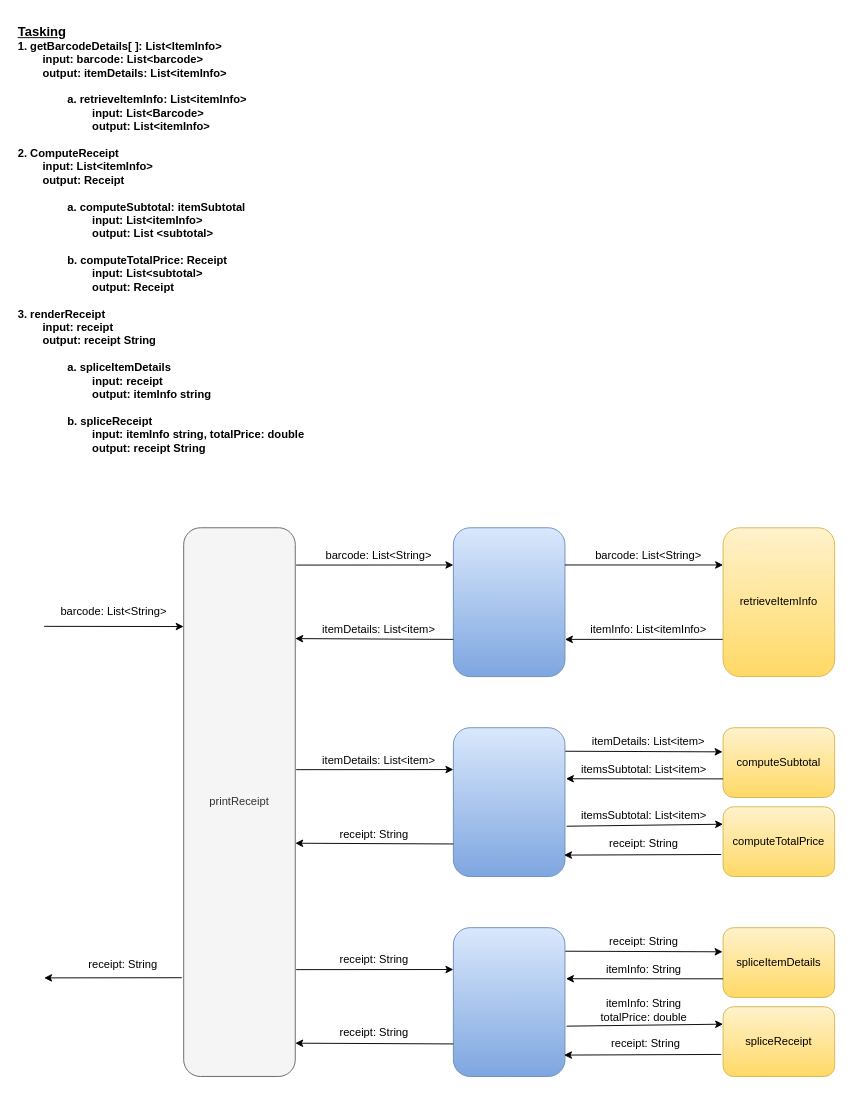
Image size: 851x1093. Some labels were removed from this diagram. The centre of each missing label's shape, as x and y in pixels:
computeReceipt: pixel 508 802
getBarcodeDetails: pixel 508 602
renderReceipt: pixel 508 1001
